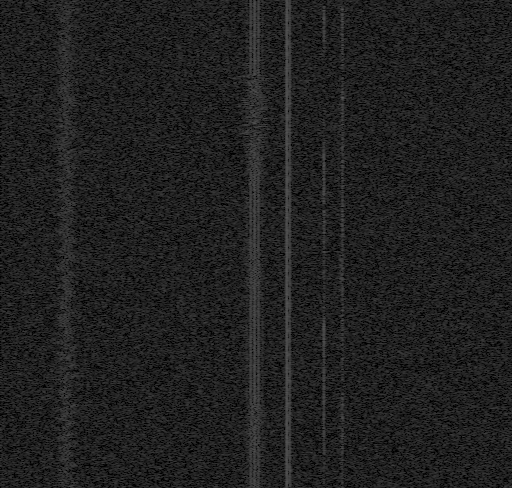wv_cw: (276, 0, 297, 488), (285, 0, 295, 488)
wv_lsb: (321, 210, 327, 460), (340, 40, 345, 222), (339, 393, 346, 488), (321, 103, 327, 204), (340, 223, 345, 341), (321, 5, 327, 67), (340, 342, 345, 381), (340, 4, 345, 39), (338, 255, 343, 287), (322, 461, 326, 488), (339, 389, 342, 417), (338, 320, 342, 333), (322, 89, 326, 100), (338, 131, 342, 142), (322, 68, 326, 78), (339, 295, 342, 307), (339, 143, 342, 155), (339, 240, 342, 251), (339, 173, 342, 184), (339, 434, 342, 444), (339, 334, 342, 344), (338, 288, 343, 294), (339, 452, 342, 461), (339, 224, 342, 233), (339, 214, 342, 223), (339, 202, 342, 211), (338, 308, 342, 314), (339, 423, 342, 429), (339, 166, 342, 172), (339, 124, 342, 130), (322, 80, 326, 84), (338, 348, 342, 352), (338, 315, 342, 319), (339, 462, 342, 467), (339, 367, 342, 372), (339, 195, 342, 200), (339, 160, 342, 165), (339, 113, 342, 118), (339, 106, 342, 111), (339, 97, 342, 102), (339, 480, 342, 484), (339, 474, 342, 478), (339, 418, 342, 422), (339, 374, 342, 378), (339, 235, 342, 239), (339, 119, 342, 123), (339, 5, 342, 9), (339, 485, 342, 488), (339, 385, 342, 388), (339, 189, 342, 192), (339, 185, 342, 188), (339, 156, 342, 159), (339, 89, 342, 92), (339, 67, 342, 70), (339, 48, 342, 51)
wv_wbfm: (233, 0, 276, 488), (46, 0, 86, 488)
